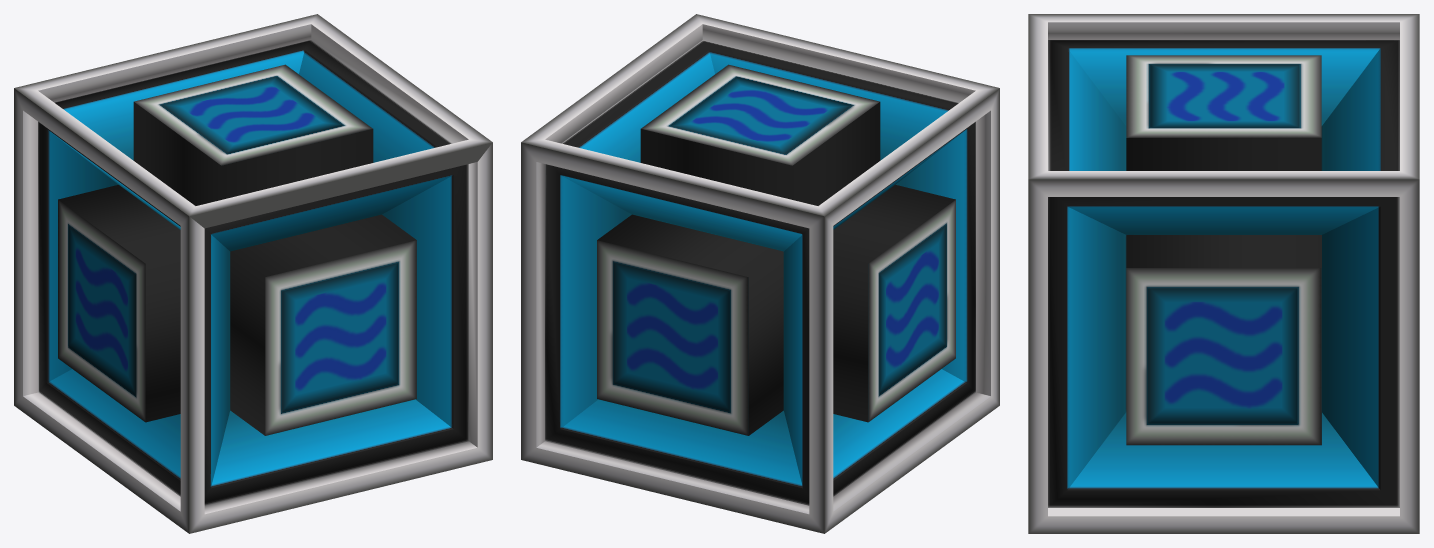
File: almost_infinite_tank.obj
3 renders of one model, left to right at view 1: azimuth 30°, elevation 25°; view 2: azimuth 150°, elevation 25°; view 3: azimuth 270°, elevation 25°, orthographic. The views are drawn at different scales.
Parts seen in each view (by area): view 1: Cube.002; view 2: Cube.002; view 3: Cube.002.
Part boxes in pixels (x1=…): Cube.002: x1=14, y1=14, x2=492, y2=533; Cube.002: x1=521, y1=14, x2=999, y2=533; Cube.002: x1=1028, y1=14, x2=1419, y2=533.
Size of the model in its own units: 1 by 1 by 1.
